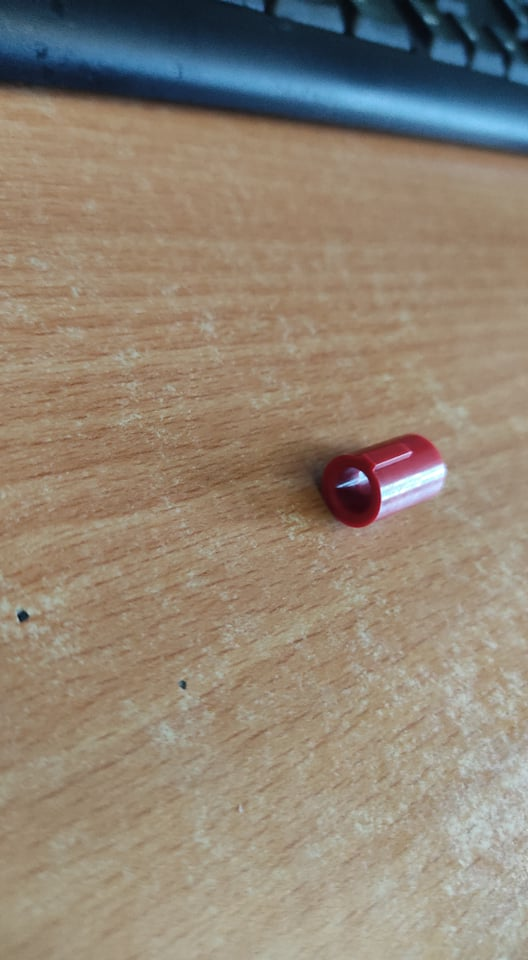red_bucking: (295, 419, 465, 534)
